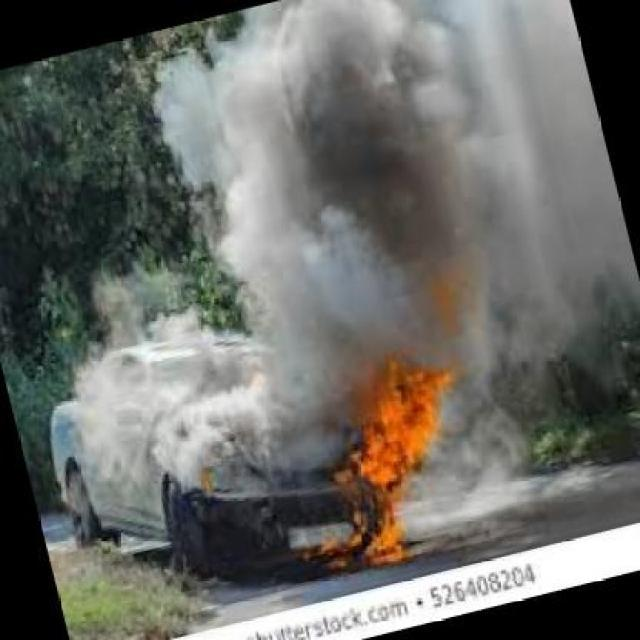Fire: (310, 324, 466, 582)
Smoke: (145, 8, 640, 354), (58, 260, 312, 514), (446, 408, 610, 532)
